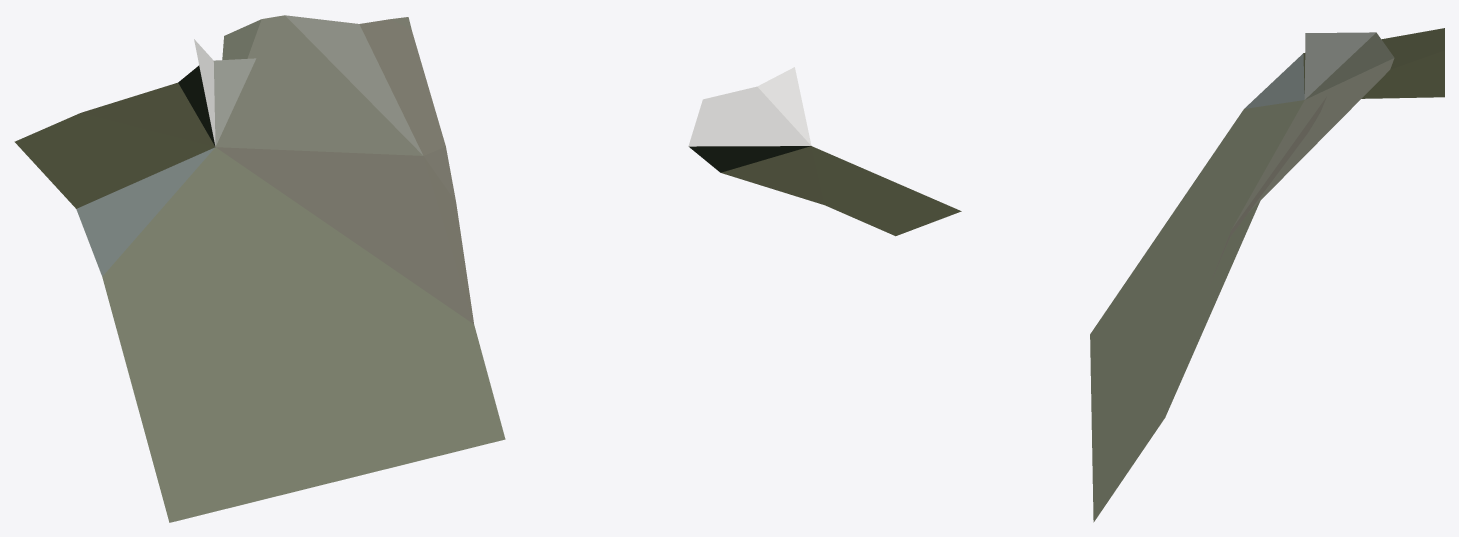
The picture shows the model from 3 angles, left to right: view 1: azimuth 30°, elevation 25°; view 2: azimuth 150°, elevation 25°; view 3: azimuth 270°, elevation 25°; orthographic projection. The views are drawn at different scales.
Bounding box in the file's own units: 3.93 × 3.91 × 3.13.
Materials: 1 (1 with a texture image).
